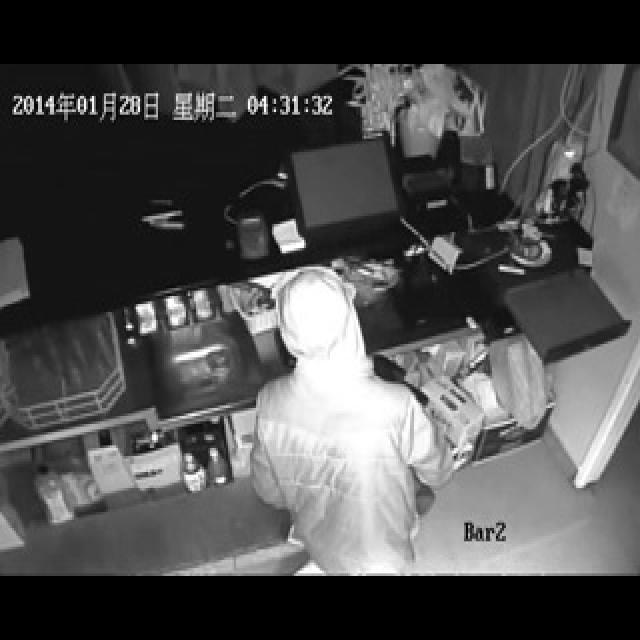thief: (253, 273, 424, 565)
